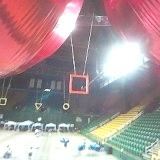Orange_Square_GShape: (69, 74, 89, 94)
Yellow_Circle_GShape: (63, 103, 69, 110)
Yellow_Square_GShape: (0, 97, 7, 106)
Yellow_Triangle_Gshape: (34, 103, 42, 110)
